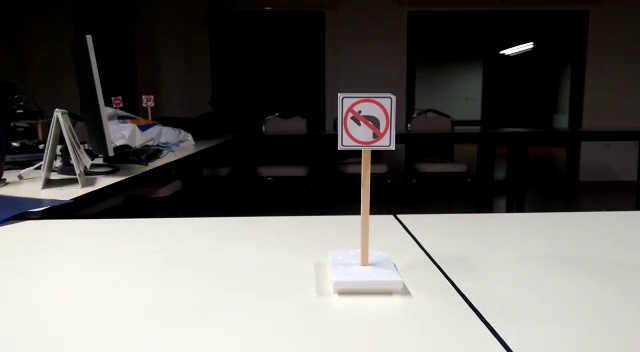sola_donulmez: (343, 93, 395, 147)
